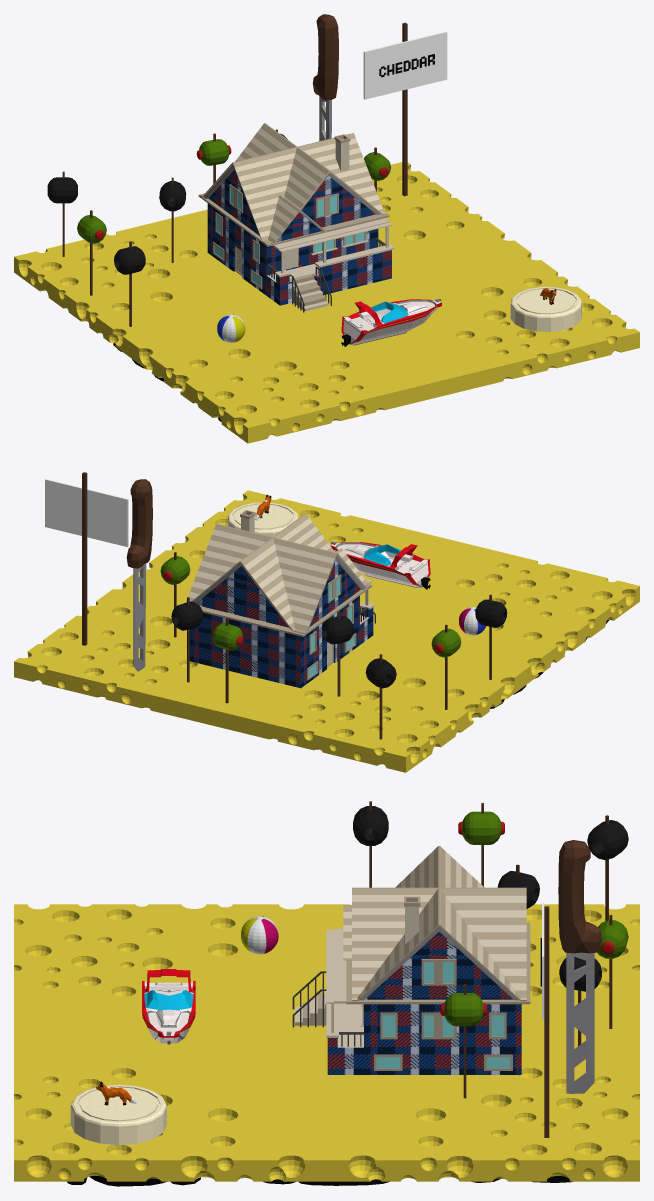
3 views of the same model, one above another, from view 1: azimuth 30°, elevation 25°; view 2: azimuth 150°, elevation 25°; view 3: azimuth 270°, elevation 25° (orthographic). The views are drawn at different scales.
Parts seen in each view (by area): view 1: Cube.022, Cube.171, Cube.023, VEHICLES_BOAT, Cylinder.016, Cube.024, Sphere.017, Sphere.016, Sphere.020, Sphere.018, Sphere.022, OBJRANDOM_BEACHBALL (+1 smaller); view 2: Cube.022, Cube.171, Cube.023, Cube.024, VEHICLES_BOAT, Cylinder.016, Sphere.020, Sphere.016, Sphere.022, Sphere.017, Sphere.021, Sphere.018 (+2 smaller); view 3: Cube.022, Cube.171, Cube.024, Cylinder.016, VEHICLES_BOAT, Cube.023, Sphere.019, Sphere.016, Sphere.018, Curve.014, Sphere.017, Sphere.022 (+3 smaller).
Part boxes in pixels (x1,y1,x2,y2): Cube.022: (14, 162, 639, 443); Cube.171: (198, 123, 394, 312); Cube.023: (363, 22, 447, 196); VEHICLES_BOAT: (341, 298, 441, 346); Cylinder.016: (510, 287, 581, 331); Cube.024: (312, 14, 338, 141); Sphere.017: (114, 241, 145, 326); Sphere.016: (47, 171, 77, 256); Sphere.020: (159, 177, 186, 262); Sphere.018: (77, 210, 106, 295); Sphere.022: (196, 133, 231, 183); OBJRANDOM_BEACHBALL: (217, 314, 245, 342); Cube.022: (14, 490, 639, 772); Cube.171: (184, 510, 375, 688); Cube.023: (45, 472, 128, 645); Cube.024: (126, 479, 152, 671); VEHICLES_BOAT: (330, 541, 430, 589); Cylinder.016: (227, 502, 298, 536); Sphere.020: (322, 611, 353, 696); Sphere.016: (365, 654, 396, 739); Sphere.022: (212, 618, 243, 703); Sphere.017: (475, 594, 507, 679); Sphere.021: (171, 597, 203, 682); Sphere.018: (431, 624, 461, 709); Cube.022: (14, 904, 639, 1181); Cube.171: (292, 846, 530, 1074); Cube.024: (558, 840, 602, 1093); Cylinder.016: (70, 1084, 166, 1145); VEHICLES_BOAT: (142, 969, 195, 1044); Cube.023: (540, 902, 549, 1137); Sphere.019: (440, 984, 487, 1098); Sphere.016: (587, 815, 628, 920); Sphere.018: (458, 803, 504, 886); Curve.014: (67, 1176, 572, 1186); Sphere.017: (353, 801, 388, 887); Sphere.022: (597, 915, 628, 1028).
Size of the model in its own units: 3917 by 1980 by 4000.
Materials: 31 (4 with a texture image).
